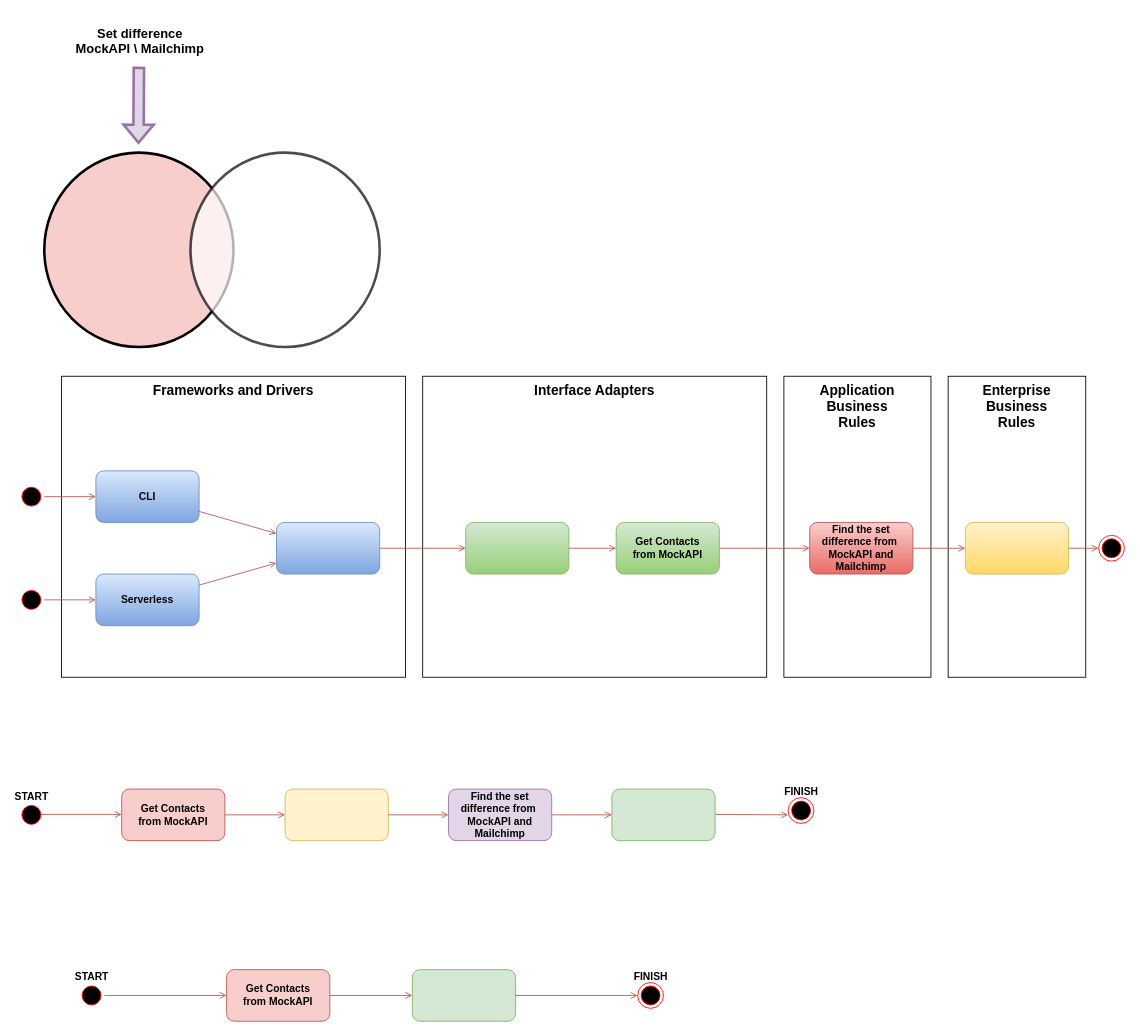
This 1140x1036 diagram has some shape labels left out. Here are the shapes that lost their labels. From the top down, the centre of each, then its label:
At point 138,249: "List of Contacts MockAPI".
At point 285,249: "List of Contacts Mailchimp".
At point 328,548: "Core Server".
At point 517,548: "Contact Controller".
At point 1016,548: "Contact, MapContacts".
At point 336,814: "Get Contacts from Mailchimp".
At point 663,814: "Add the set difference on Mailchimp".
At point 464,995: "Add MockAPI contact on Mailchimp".
